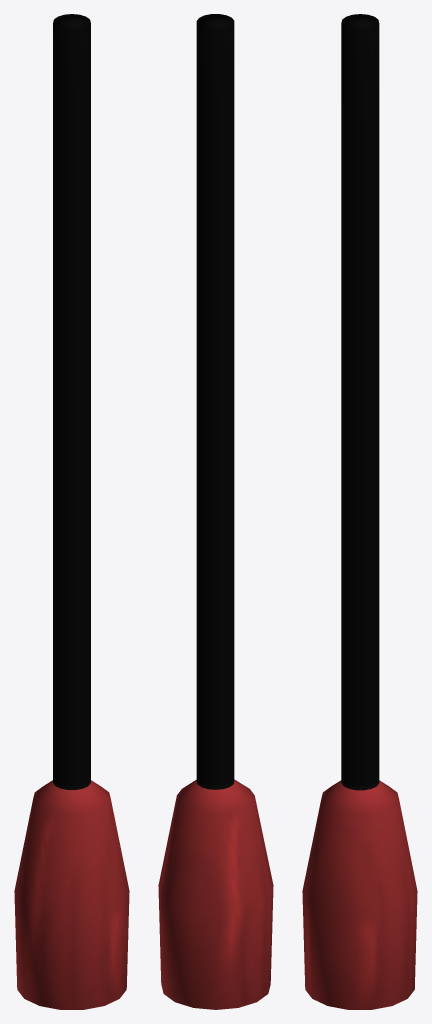
Rendered from shengzi.fbx.
3 views of the same model, side by side, from view 1: azimuth 90°, elevation 25°; view 2: azimuth 150°, elevation 25°; view 3: azimuth 330°, elevation 25° (orthographic).
Parts seen in each view (by area): view 1: polySurface6; view 2: polySurface6; view 3: polySurface6.
Part boxes in pixels (x1,y1,x2,y2): polySurface6: (14, 14, 129, 1009); polySurface6: (158, 14, 273, 1009); polySurface6: (302, 14, 417, 1009).
Size of the model in its own units: 3.21 by 29.88 by 3.23.
